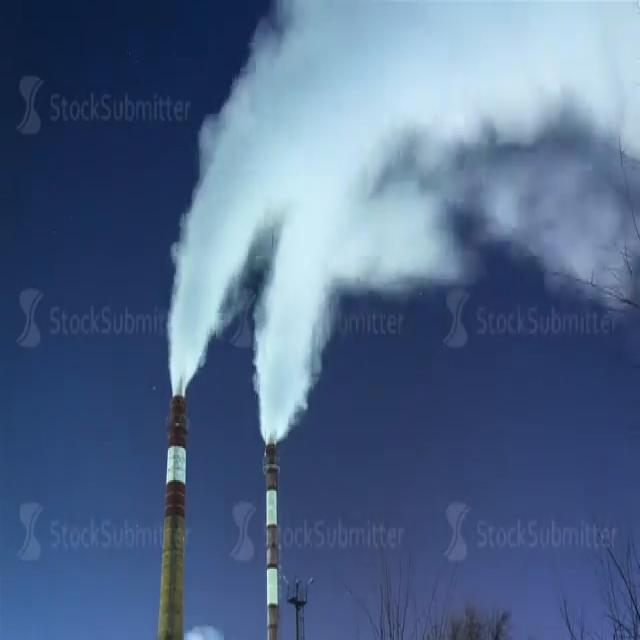smoke: (167, 0, 640, 448)
